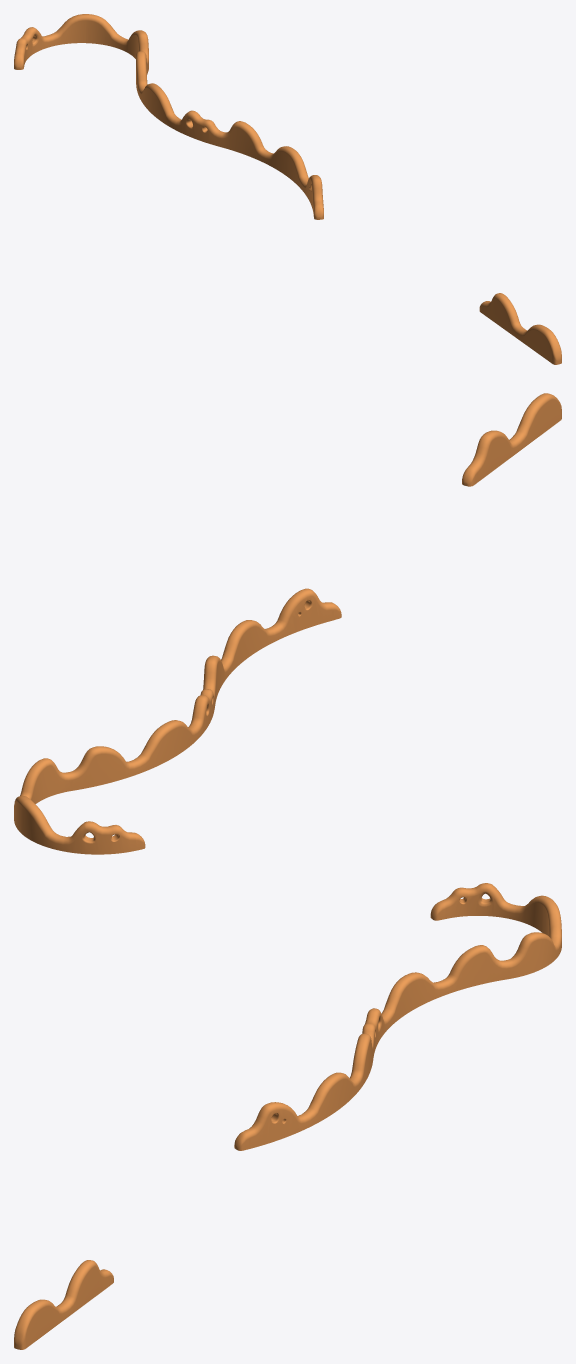
The model's file is b3_walls.fbx.
3 views of the same model, one above another, from view 1: azimuth 30°, elevation 25°; view 2: azimuth 150°, elevation 25°; view 3: azimuth 330°, elevation 25° (orthographic). The views are drawn at different scales.
Parts seen in each view (by area): view 1: polySurface24, wall_end_012; view 2: polySurface24, wall_end_012; view 3: polySurface24, wall_end_012.
Part boxes in pixels (x1,y1,x2,y2): polySurface24: [14, 14, 323, 219]; wall_end_012: [479, 293, 561, 364]; polySurface24: [14, 588, 341, 854]; wall_end_012: [462, 393, 561, 486]; polySurface24: [234, 883, 561, 1150]; wall_end_012: [14, 1260, 113, 1349].
Size of the model in its own units: 1277 by 321 by 9114.
